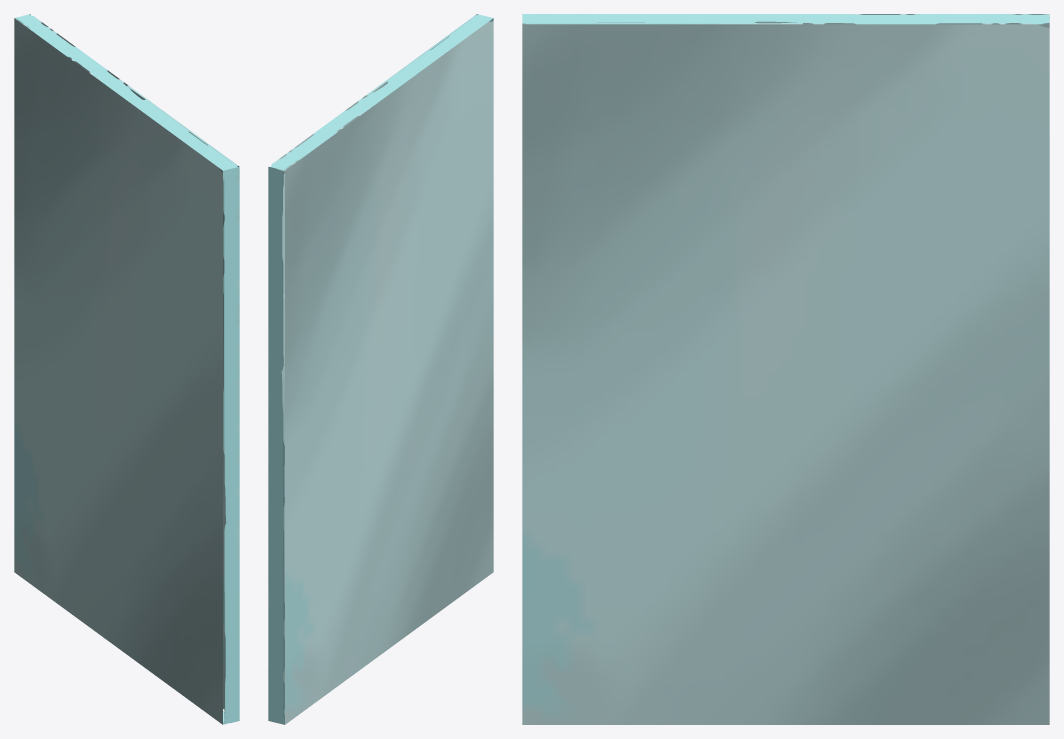
Rendered from BrokenMirror.fbx.
3 renders of one model, left to right at view 1: azimuth 30°, elevation 25°; view 2: azimuth 150°, elevation 25°; view 3: azimuth 270°, elevation 25°, orthographic. The views are drawn at different scales.
Visible parts, largest first — view 1: pCube18.002, pCube18.001, pCube18.006, pCube18.004, pCube18.003, pCube18.005, pCube18.007; view 2: pCube18.002, pCube18.001, pCube18.006, pCube18.003, pCube18.004, pCube18.005, pCube18.007; view 3: pCube18.001, pCube18.002, pCube18.006, pCube18.003, pCube18.004, pCube18.005, pCube18.007.
Part boxes in pixels (x1,y1,x2,y2): pCube18.002: [14, 14, 239, 418]; pCube18.001: [57, 246, 239, 569]; pCube18.006: [14, 342, 117, 594]; pCube18.004: [118, 524, 239, 724]; pCube18.003: [14, 60, 122, 341]; pCube18.005: [14, 180, 57, 405]; pCube18.007: [46, 569, 143, 666]; pCube18.002: [268, 14, 493, 265]; pCube18.001: [328, 240, 493, 569]; pCube18.006: [268, 432, 388, 724]; pCube18.003: [268, 207, 392, 430]; pCube18.004: [389, 380, 493, 629]; pCube18.005: [268, 324, 328, 558]; pCube18.007: [316, 570, 414, 701]; pCube18.001: [522, 210, 939, 619]; pCube18.002: [522, 14, 1049, 335]; pCube18.006: [788, 390, 1049, 724]; pCube18.003: [777, 75, 1049, 389]; pCube18.004: [522, 476, 788, 724]; pCube18.005: [940, 224, 1049, 510]; pCube18.007: [719, 619, 982, 724].
Bounding box in the file's own units: 28.52 × 907 × 619.
